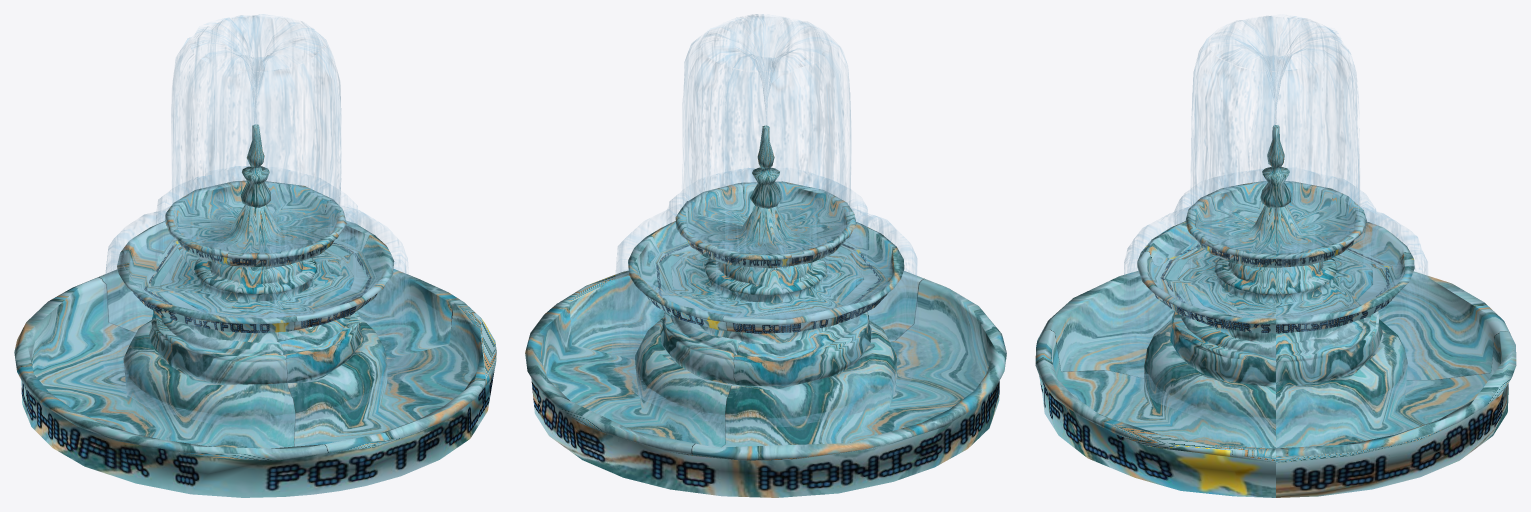
The model's file is fountain.glb.
3 views of the same model, side by side, from view 1: azimuth 30°, elevation 25°; view 2: azimuth 150°, elevation 25°; view 3: azimuth 270°, elevation 25° (orthographic).
Visible parts, largest first — view 1: f_base, f_flow_water, f_base_water, f_water_mid, f_water_top; view 2: f_base, f_flow_water, f_base_water, f_water_mid, f_water_top; view 3: f_base, f_flow_water, f_base_water, f_water_mid, f_water_top.
Boxes of the visible parts, x1,y1,x2,y2 form: f_base: (14, 124, 496, 497); f_flow_water: (102, 14, 410, 424); f_base_water: (34, 287, 477, 448); f_water_mid: (129, 232, 381, 317); f_water_top: (176, 191, 335, 252); f_base: (525, 125, 1006, 497); f_flow_water: (611, 14, 918, 426); f_base_water: (545, 287, 987, 446); f_water_mid: (640, 233, 891, 318); f_water_top: (687, 191, 845, 253); f_base: (1035, 125, 1516, 497); f_flow_water: (1122, 16, 1430, 426); f_base_water: (1054, 287, 1497, 448); f_water_mid: (1150, 233, 1401, 318); f_water_top: (1196, 191, 1354, 253).
Bounding box in the file's own units: 3.72 × 3.08 × 3.7.
5 materials, 5 textured.
